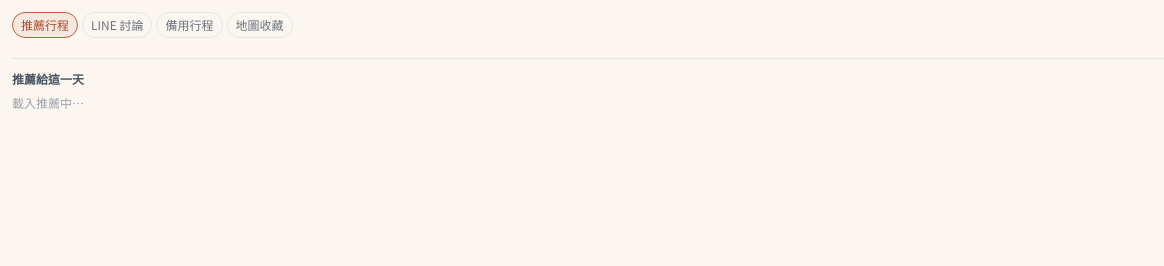
switching to the collection tab shows the import entry point
The width and height of the screenshot is (1164, 266).
Click the button with test id "side-panel-tab-collection".
click(260, 25)  # box [226, 12, 292, 38]
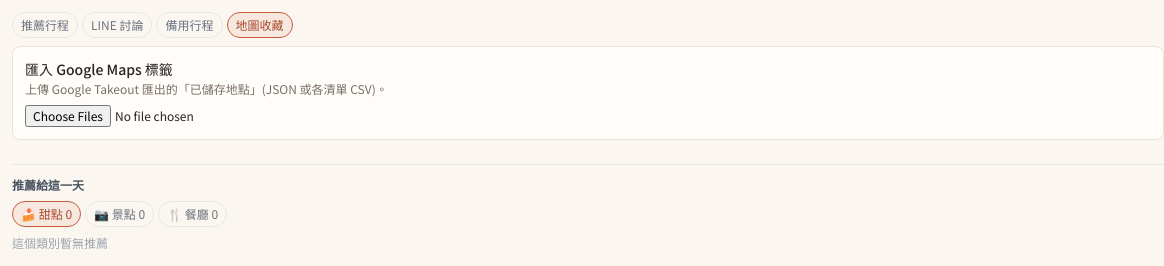
Result: the element with test id "collection-import" is shown at [12, 46, 1163, 140]
